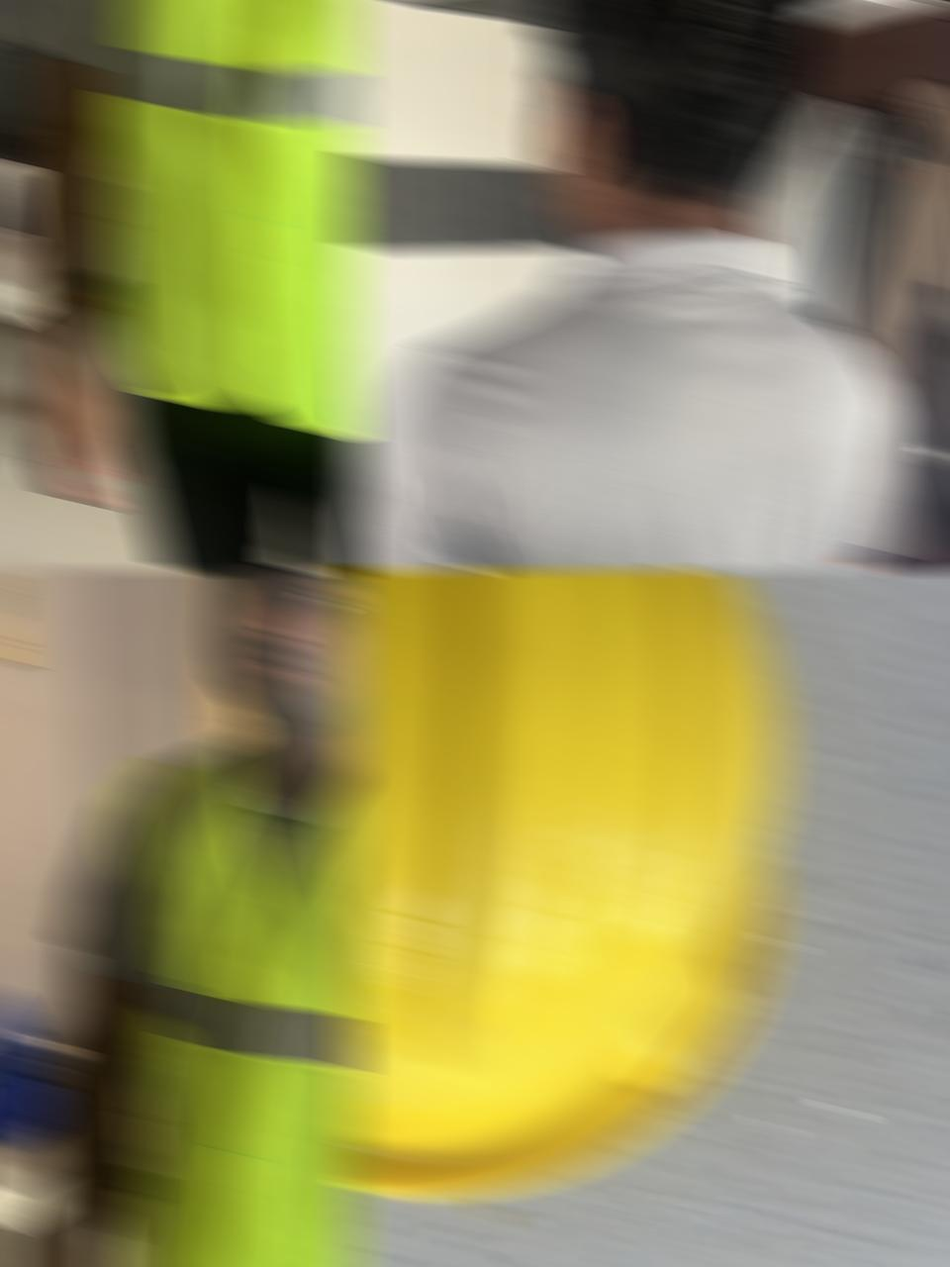Helmet: (341, 568, 792, 1201)
No_Helmet: (527, 0, 825, 254)
No_Vest: (341, 229, 906, 572)
Person: (341, 0, 907, 572), (32, 568, 361, 1267), (5, 0, 361, 572)
Vest: (105, 728, 361, 1267), (60, 0, 361, 439)
